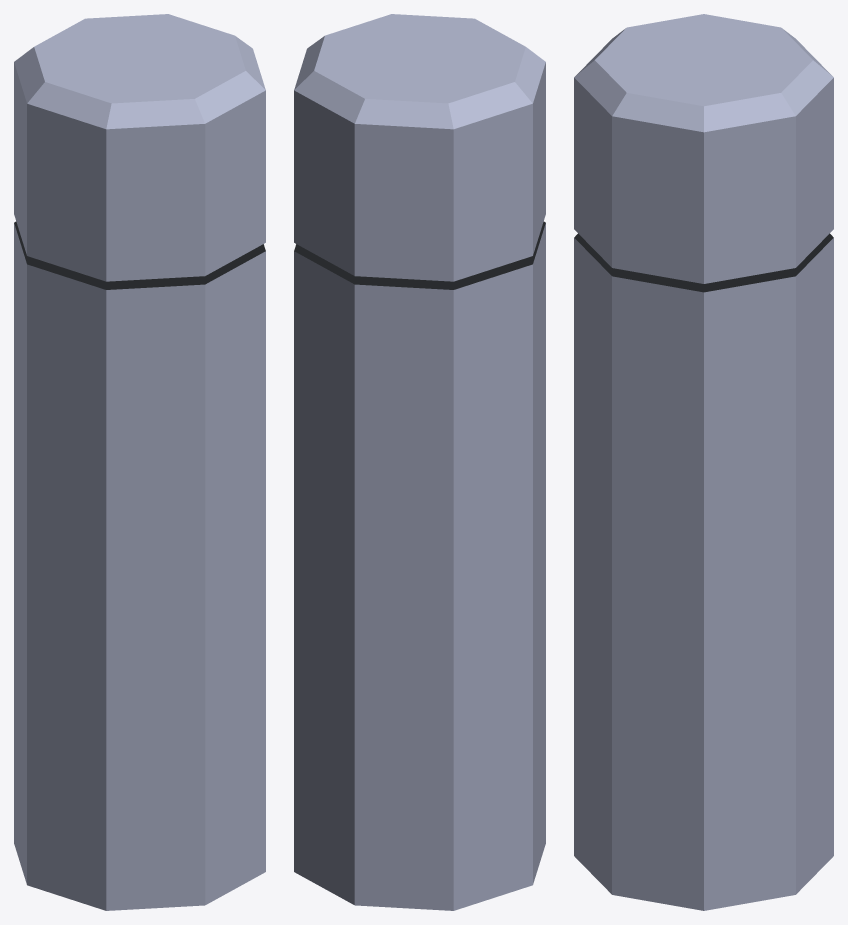
The model's file is prop_thermos.fbx.
3 views of the same model, side by side, from view 1: azimuth 30°, elevation 25°; view 2: azimuth 150°, elevation 25°; view 3: azimuth 270°, elevation 25° (orthographic).
Visible parts, largest first — view 1: Thermos Body, Thermos Top; view 2: Thermos Body, Thermos Top; view 3: Thermos Body, Thermos Top.
Part boxes in pixels (x1,y1,x2,y2): Thermos Body: (14,221,265,910); Thermos Top: (14,14,265,281); Thermos Body: (294,221,545,910); Thermos Top: (294,14,545,281); Thermos Body: (574,233,833,910); Thermos Top: (574,14,833,283).
Size of the model in its own units: 0.068 by 0.23 by 0.068.
